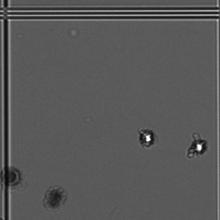Dead Cell: (41, 184, 71, 213), (1, 166, 26, 192)
Living Cell: (135, 125, 161, 151), (184, 133, 210, 159)
